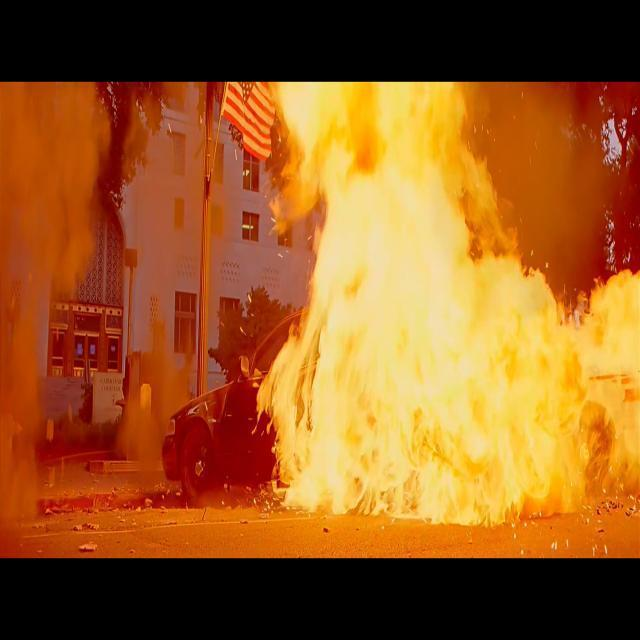fire: (251, 81, 640, 518)
